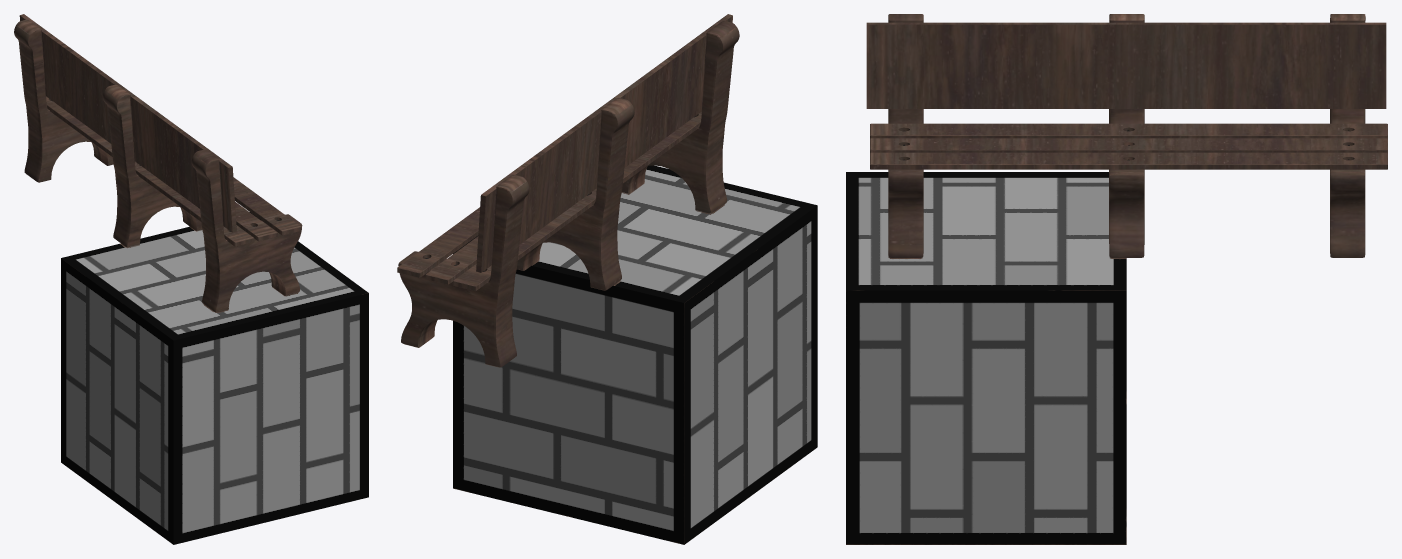
Rendered from WoodenBench.glb.
3 views of the same model, side by side, from view 1: azimuth 30°, elevation 25°; view 2: azimuth 150°, elevation 25°; view 3: azimuth 270°, elevation 25° (orthographic). The views are drawn at different scales.
Parts seen in each view (by area): view 1: StoneBricks.003; view 2: StoneBricks.003; view 3: StoneBricks.003.
Part boxes in pixels (bbox=[...]): StoneBricks.003: bbox=[14, 14, 368, 544]; StoneBricks.003: bbox=[397, 14, 817, 544]; StoneBricks.003: bbox=[846, 14, 1387, 544].
Size of the model in its own units: 0.98 by 1.72 by 1.89.
Materials: 1 (1 with a texture image).
